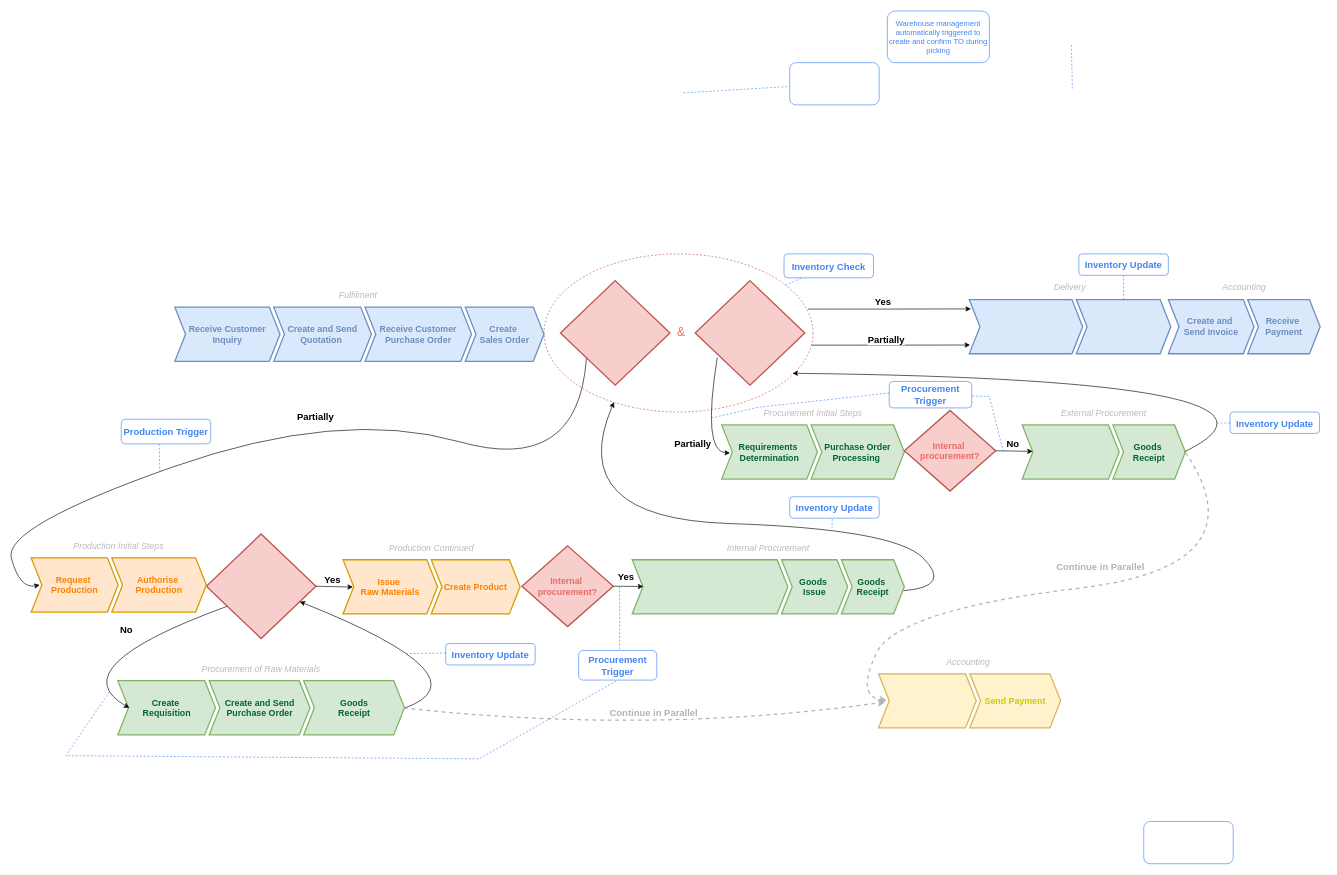
This 1337x875 diagram has some shape labels left out. Here are the shapes that lost their labels. From the top down, the centre of each, then its label:
At point (834, 83): "Inquired for finished goods (Bicycles) and trading goods (helmets).".
At point (614, 333): "Sufficient finished goods?".
At point (749, 333): "Sufficient trading goods?".
At point (1025, 326): "Prepare Shipment (Pick & Pack Goods)".
At point (1123, 326): "Send Shipment".
At point (1070, 451): "Purchase Order (to vendor)".
At point (260, 586): "Sufficient raw materials?".
At point (709, 586): "Create Stock Transport Order (STO) to Plant".
At point (927, 700): "Receive Invoice".
At point (1188, 842): "Warehouse management triggered to create a TR, create a TO and confirm the TO".
